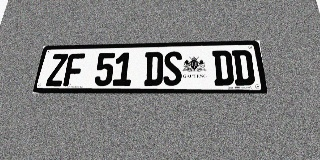1: (112, 52, 133, 86)
5: (94, 53, 115, 86)
D: (232, 50, 256, 86), (212, 50, 234, 86), (144, 52, 163, 86)
F: (63, 53, 85, 86)
S: (163, 51, 182, 86)
Z: (45, 54, 68, 86)
